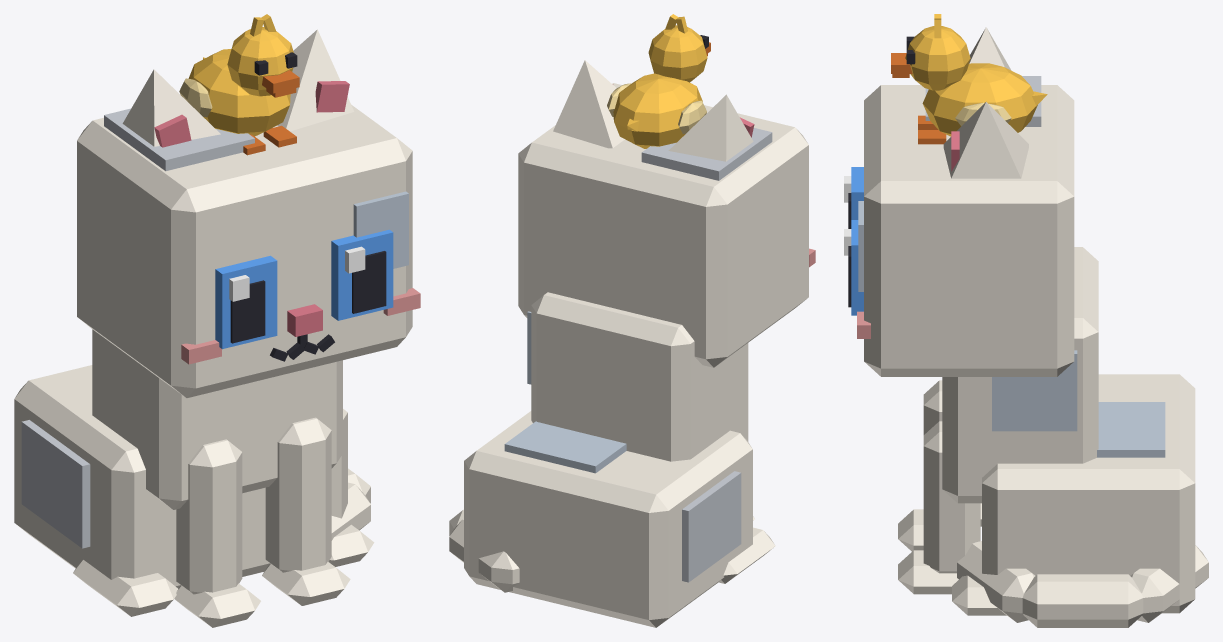
The model's file is CatCafe_Cat_Duckling_Sit.glb.
3 views of the same model, side by side, from view 1: azimuth 30°, elevation 25°; view 2: azimuth 150°, elevation 25°; view 3: azimuth 270°, elevation 25° (orthographic). The views are drawn at different scales.
Parts seen in each view (by area): view 1: CatCafe_Cat_Duckling_Sit_Head, CatCafe_Cat_Duckling_Sit_Body, CatCafe_Cat_Duckling_Sit_LegF1, CatCafe_Cat_Duckling_Sit_LegF2, CatCafe_Cat_Duckling_Sit_Prop, CatCafe_Cat_Duckling_Sit_Eye2, CatCafe_Cat_Duckling_Sit_Eye1, CatCafe_Cat_Duckling_Sit_EarL, CatCafe_Cat_Duckling_Sit_EarR, CatCafe_Cat_Duckling_Sit_Tail; view 2: CatCafe_Cat_Duckling_Sit_Body, CatCafe_Cat_Duckling_Sit_Head, CatCafe_Cat_Duckling_Sit_Prop, CatCafe_Cat_Duckling_Sit_EarL, CatCafe_Cat_Duckling_Sit_EarR, CatCafe_Cat_Duckling_Sit_Tail; view 3: CatCafe_Cat_Duckling_Sit_Head, CatCafe_Cat_Duckling_Sit_Body, CatCafe_Cat_Duckling_Sit_Tail, CatCafe_Cat_Duckling_Sit_Prop, CatCafe_Cat_Duckling_Sit_LegF1, CatCafe_Cat_Duckling_Sit_EarL, CatCafe_Cat_Duckling_Sit_LegF2, CatCafe_Cat_Duckling_Sit_Eye1, CatCafe_Cat_Duckling_Sit_Eye2, CatCafe_Cat_Duckling_Sit_EarR.
Boxes of the visible parts, bbox=[...] form: CatCafe_Cat_Duckling_Sit_Head: bbox=[77, 104, 420, 397]; CatCafe_Cat_Duckling_Sit_Body: bbox=[14, 329, 374, 616]; CatCafe_Cat_Duckling_Sit_LegF1: bbox=[262, 417, 350, 605]; CatCafe_Cat_Duckling_Sit_LegF2: bbox=[174, 439, 260, 627]; CatCafe_Cat_Duckling_Sit_Prop: bbox=[179, 14, 299, 155]; CatCafe_Cat_Duckling_Sit_Eye2: bbox=[215, 255, 277, 349]; CatCafe_Cat_Duckling_Sit_Eye1: bbox=[331, 229, 393, 320]; CatCafe_Cat_Duckling_Sit_EarL: bbox=[277, 29, 354, 131]; CatCafe_Cat_Duckling_Sit_EarR: bbox=[122, 69, 220, 147]; CatCafe_Cat_Duckling_Sit_Tail: bbox=[331, 468, 370, 540]; CatCafe_Cat_Duckling_Sit_Body: bbox=[464, 292, 775, 627]; CatCafe_Cat_Duckling_Sit_Head: bbox=[518, 83, 815, 367]; CatCafe_Cat_Duckling_Sit_Prop: bbox=[607, 14, 710, 148]; CatCafe_Cat_Duckling_Sit_EarL: bbox=[553, 60, 624, 148]; CatCafe_Cat_Duckling_Sit_EarR: bbox=[668, 94, 754, 161]; CatCafe_Cat_Duckling_Sit_Tail: bbox=[449, 509, 519, 592]; CatCafe_Cat_Duckling_Sit_Head: bbox=[857, 76, 1074, 376]; CatCafe_Cat_Duckling_Sit_Body: bbox=[942, 247, 1195, 615]; CatCafe_Cat_Duckling_Sit_Tail: bbox=[957, 541, 1208, 627]; CatCafe_Cat_Duckling_Sit_Prop: bbox=[891, 14, 1047, 144]; CatCafe_Cat_Duckling_Sit_LegF1: bbox=[898, 421, 980, 594]; CatCafe_Cat_Duckling_Sit_EarL: bbox=[943, 102, 1028, 178]; CatCafe_Cat_Duckling_Sit_LegF2: bbox=[898, 380, 942, 551]; CatCafe_Cat_Duckling_Sit_Eye1: bbox=[844, 220, 863, 315]; CatCafe_Cat_Duckling_Sit_Eye2: bbox=[844, 167, 863, 228]; CatCafe_Cat_Duckling_Sit_EarR: bbox=[969, 27, 1011, 70].
Size of the model in its own units: 1.05 by 2.03 by 1.22.
Materials: 1 (1 with a texture image).
